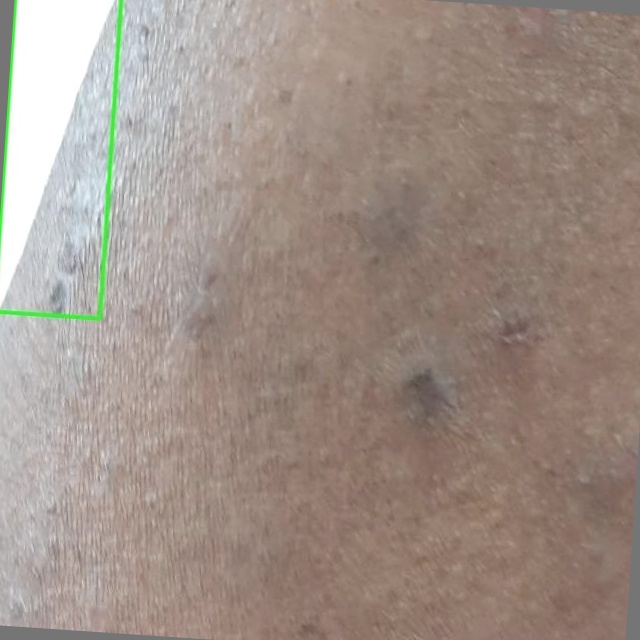Atopic Dermatitis: (0, 0, 121, 318)
